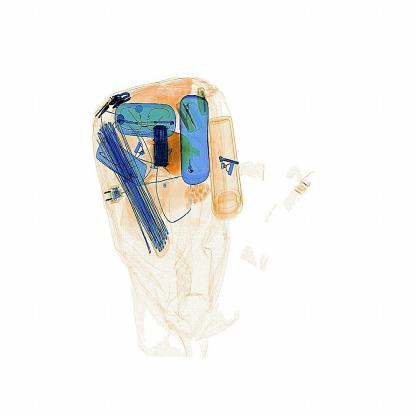scissors: (144, 119, 180, 175)
